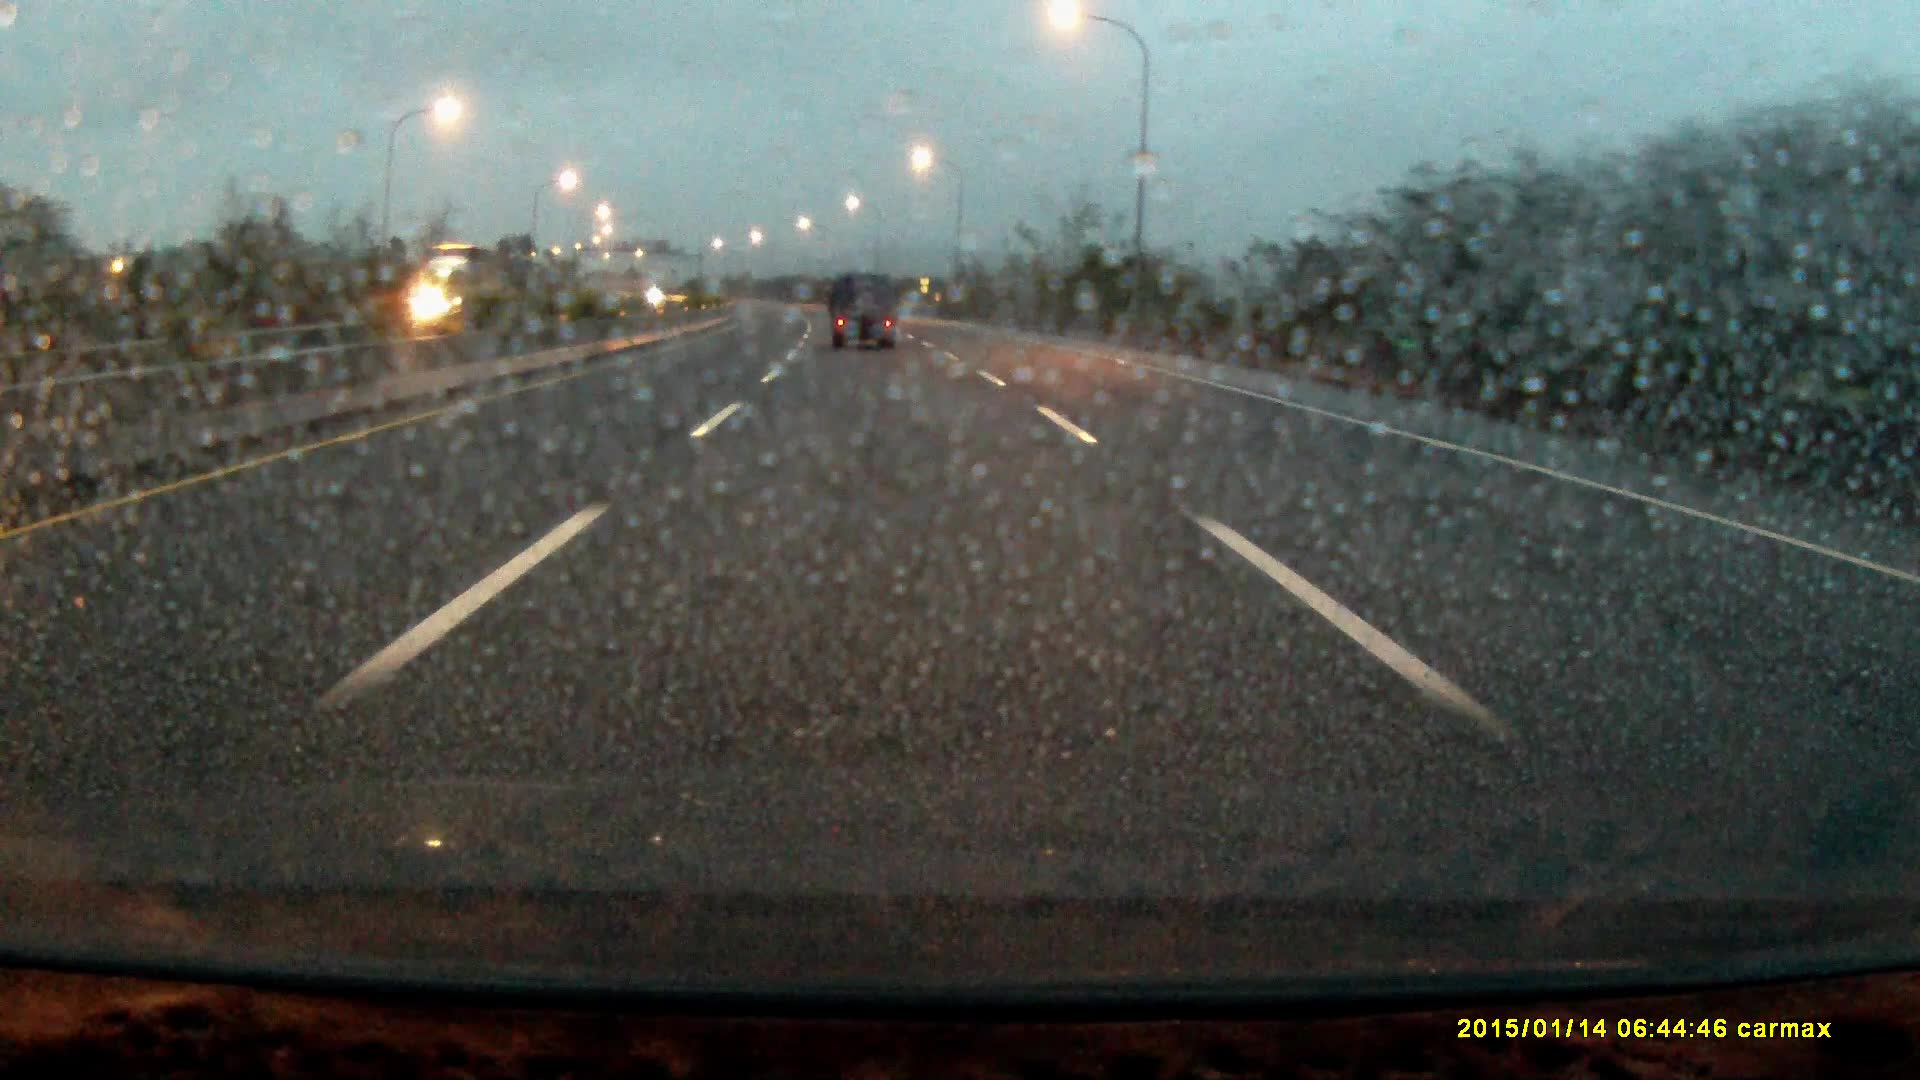vehicle: (406, 241, 525, 334), (831, 272, 902, 349)
